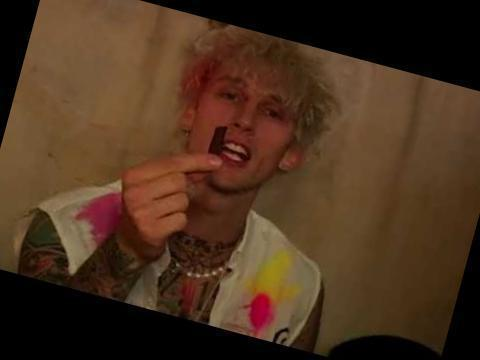Drunk: (201, 64, 285, 190)
